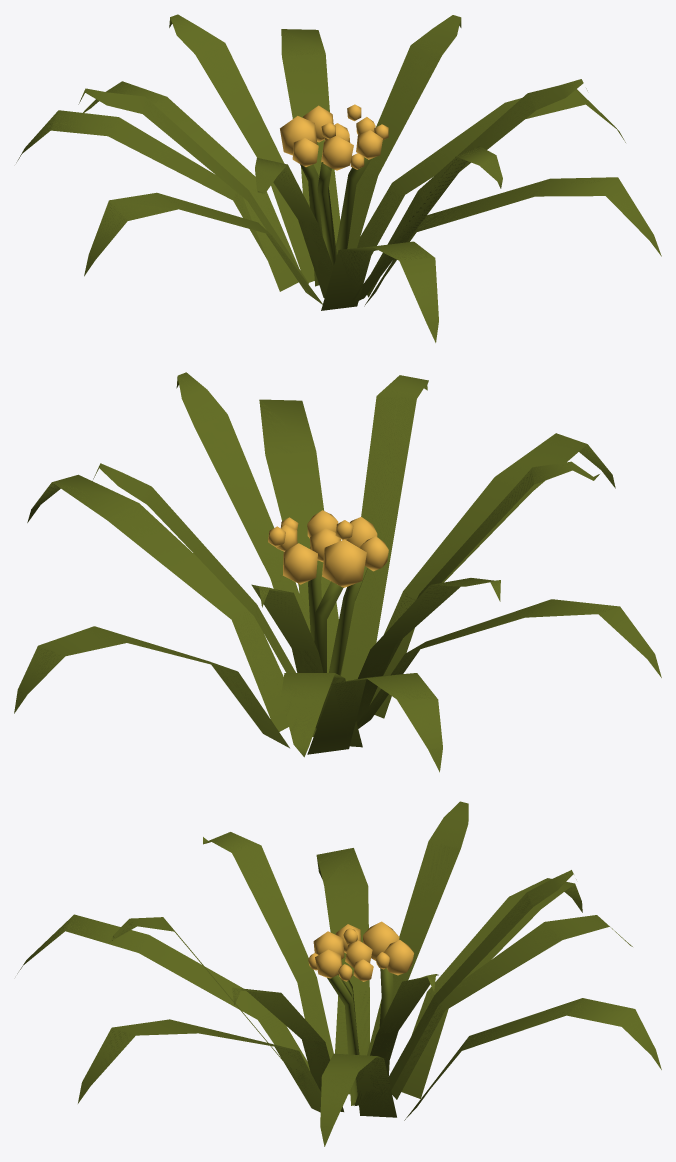
Rendered from Plant_05.fbx.
3 renders of one model, top to bottom at view 1: azimuth 30°, elevation 25°; view 2: azimuth 150°, elevation 25°; view 3: azimuth 270°, elevation 25°, orthographic. The views are drawn at different scales.
Visible parts, largest first — view 1: polySurface163; view 2: polySurface163; view 3: polySurface163.
Boxes of the visible parts, x1=… form: polySurface163: x1=16, y1=14, x2=661, y2=342; polySurface163: x1=14, y1=372, x2=661, y2=772; polySurface163: x1=17, y1=801, x2=661, y2=1146.
Size of the model in its own units: 203 by 75.27 by 211.
